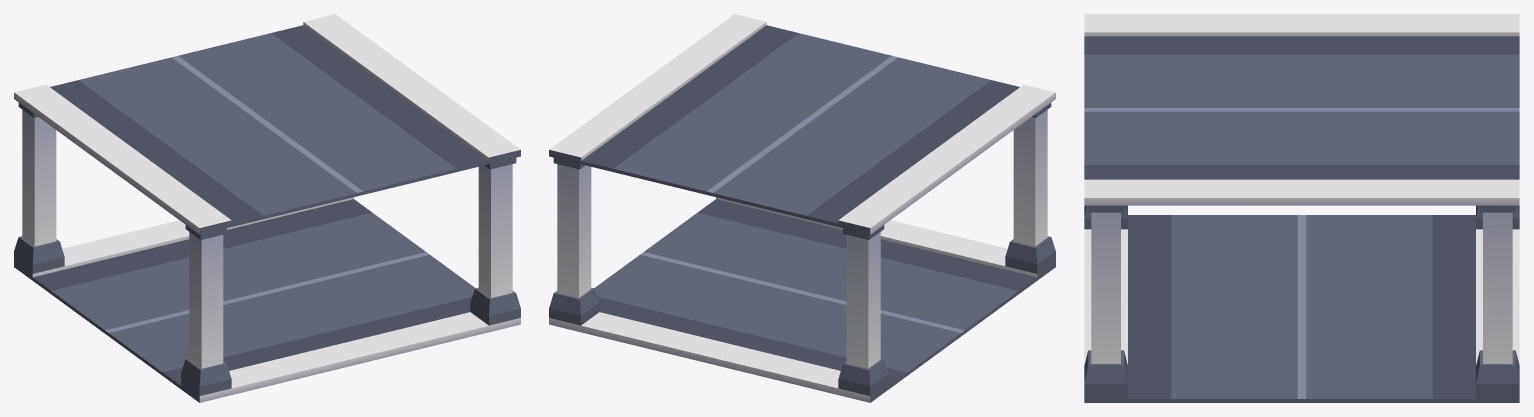
File: road-bridge.draco.glb
3 renders of one model, left to right at view 1: azimuth 30°, elevation 25°; view 2: azimuth 150°, elevation 25°; view 3: azimuth 270°, elevation 25°, orthographic. The views are drawn at different scales.
Parts seen in each view (by area): view 1: road-bridge; view 2: road-bridge; view 3: road-bridge.
Part boxes in pixels (left/top/right/bottom): road-bridge: left=14, top=14, right=520, bottom=402; road-bridge: left=549, top=14, right=1055, bottom=402; road-bridge: left=1084, top=14, right=1519, bottom=402.
Bounding box in the file's own units: 1 × 0.52 × 1.
1 material, 1 textured.
